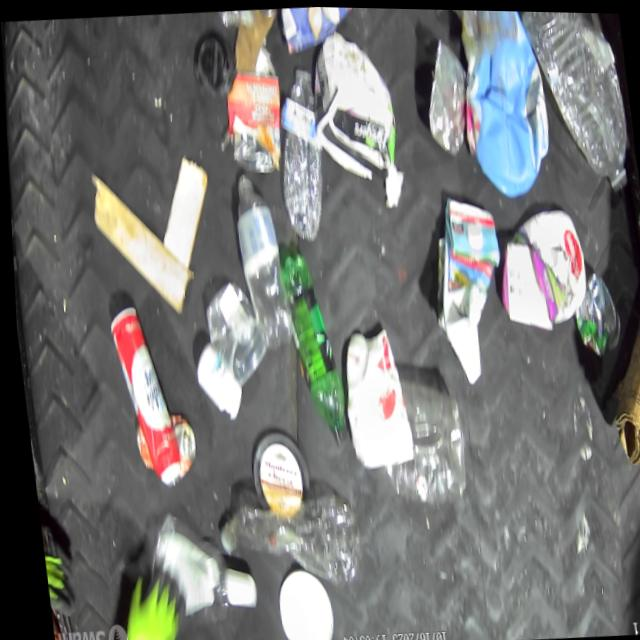can: (102, 302, 178, 487), (219, 62, 288, 173), (125, 408, 195, 483), (565, 266, 621, 356)
milk_jug: (418, 191, 511, 387), (487, 201, 590, 335)
non_white_jug: (449, 8, 555, 202)
plastic_bottle: (518, 9, 634, 202), (209, 483, 360, 595), (265, 64, 331, 246), (226, 169, 291, 353)
